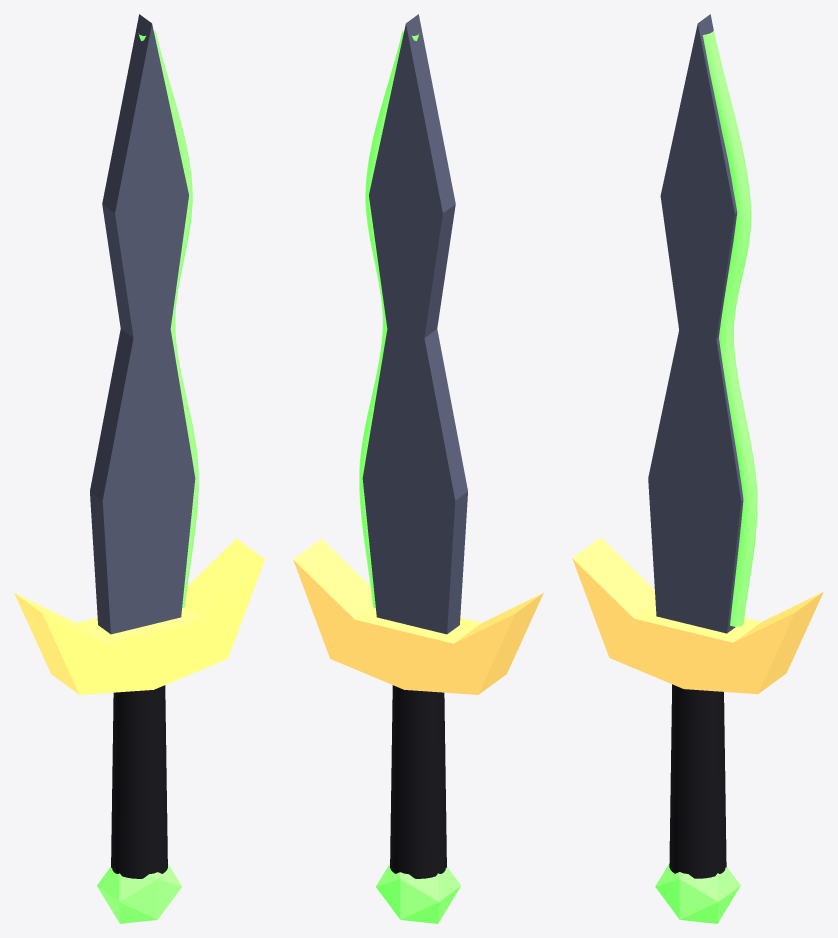
Rendered from assassin_dagger.glb.
The picture shows the model from 3 angles, left to right: view 1: azimuth 30°, elevation 25°; view 2: azimuth 150°, elevation 25°; view 3: azimuth 330°, elevation 25°; orthographic projection.
Visible parts, largest first — view 1: ad_blade, ad_guard, ad_grip, ad_gem, ad_venom; view 2: ad_blade, ad_guard, ad_grip, ad_gem, ad_venom; view 3: ad_blade, ad_guard, ad_grip, ad_venom, ad_gem.
Part boxes in pixels (x1=…): ad_blade: x1=90, y1=14, x2=195, y2=634; ad_guard: x1=14, y1=538, x2=264, y2=694; ad_grip: x1=111, y1=685, x2=167, y2=878; ad_gem: x1=97, y1=864, x2=181, y2=923; ad_venom: x1=138, y1=30, x2=198, y2=608; ad_blade: x1=362, y1=14, x2=467, y2=634; ad_guard: x1=293, y1=538, x2=543, y2=694; ad_grip: x1=390, y1=685, x2=446, y2=878; ad_gem: x1=376, y1=864, x2=460, y2=923; ad_venom: x1=359, y1=30, x2=419, y2=608; ad_blade: x1=648, y1=14, x2=743, y2=633; ad_guard: x1=572, y1=537, x2=823, y2=694; ad_grip: x1=669, y1=684, x2=726, y2=878; ad_venom: x1=702, y1=30, x2=757, y2=626; ad_gem: x1=655, y1=863, x2=740, y2=923.
Bounding box in the file's own units: 0.18 × 0.6955 × 0.051.
